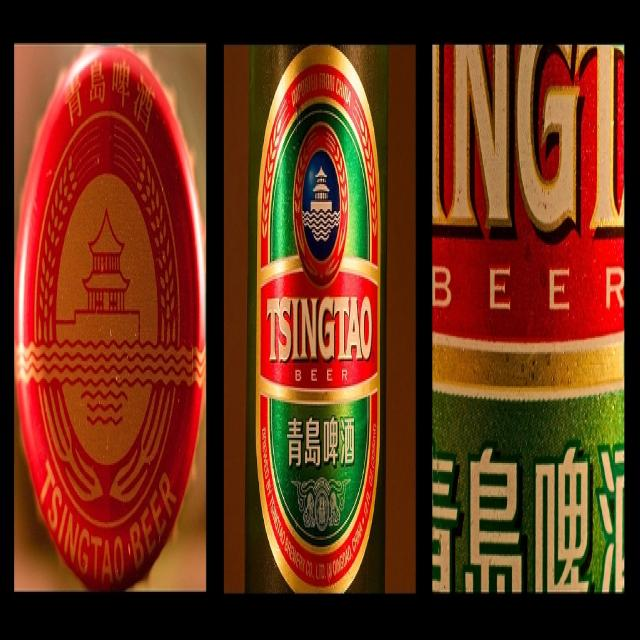tsingtao: (15, 42, 205, 596), (256, 44, 383, 594)
